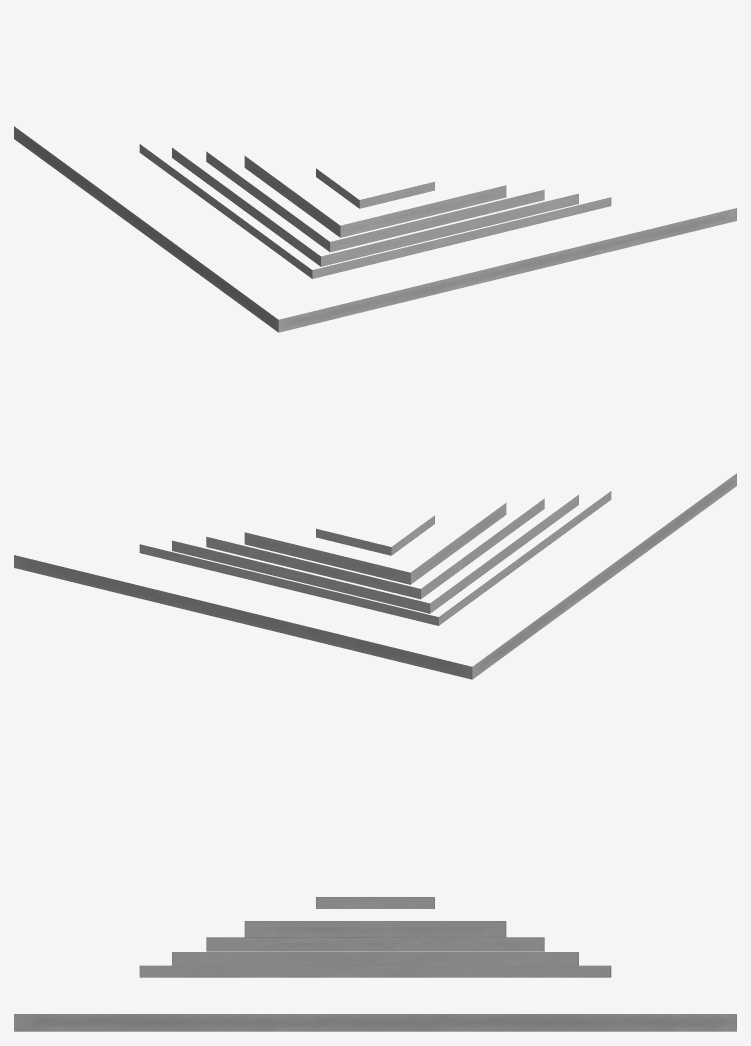
Rendered from SM_Celing_Vent_01.glb.
3 renders of one model, top to bottom at view 1: azimuth 30°, elevation 25°; view 2: azimuth 150°, elevation 25°; view 3: azimuth 270°, elevation 25°, orthographic. The views are drawn at different scales.
Parts seen in each view (by area): view 1: SM_Celing_Vent_01; view 2: SM_Celing_Vent_01; view 3: SM_Celing_Vent_01.
Part boxes in pixels (x1,y1,x2,y2): SM_Celing_Vent_01: (14,126,736,332); SM_Celing_Vent_01: (14,473,736,679); SM_Celing_Vent_01: (14,897,736,1031).
Size of the model in its own units: 1 by 0.0348 by 1.
1 material, 1 textured.
